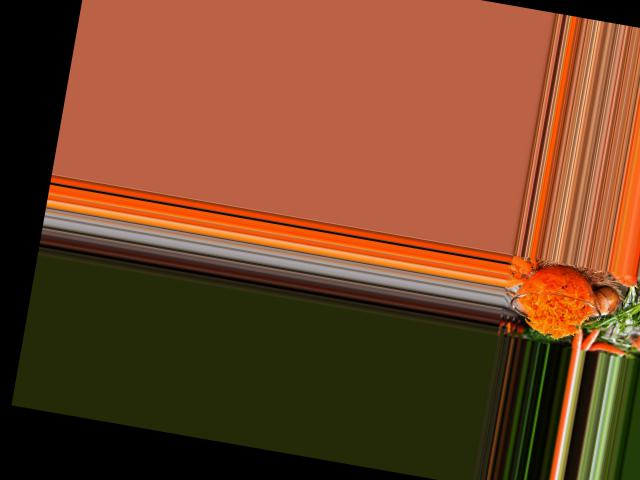carrot: (571, 327, 584, 348)
